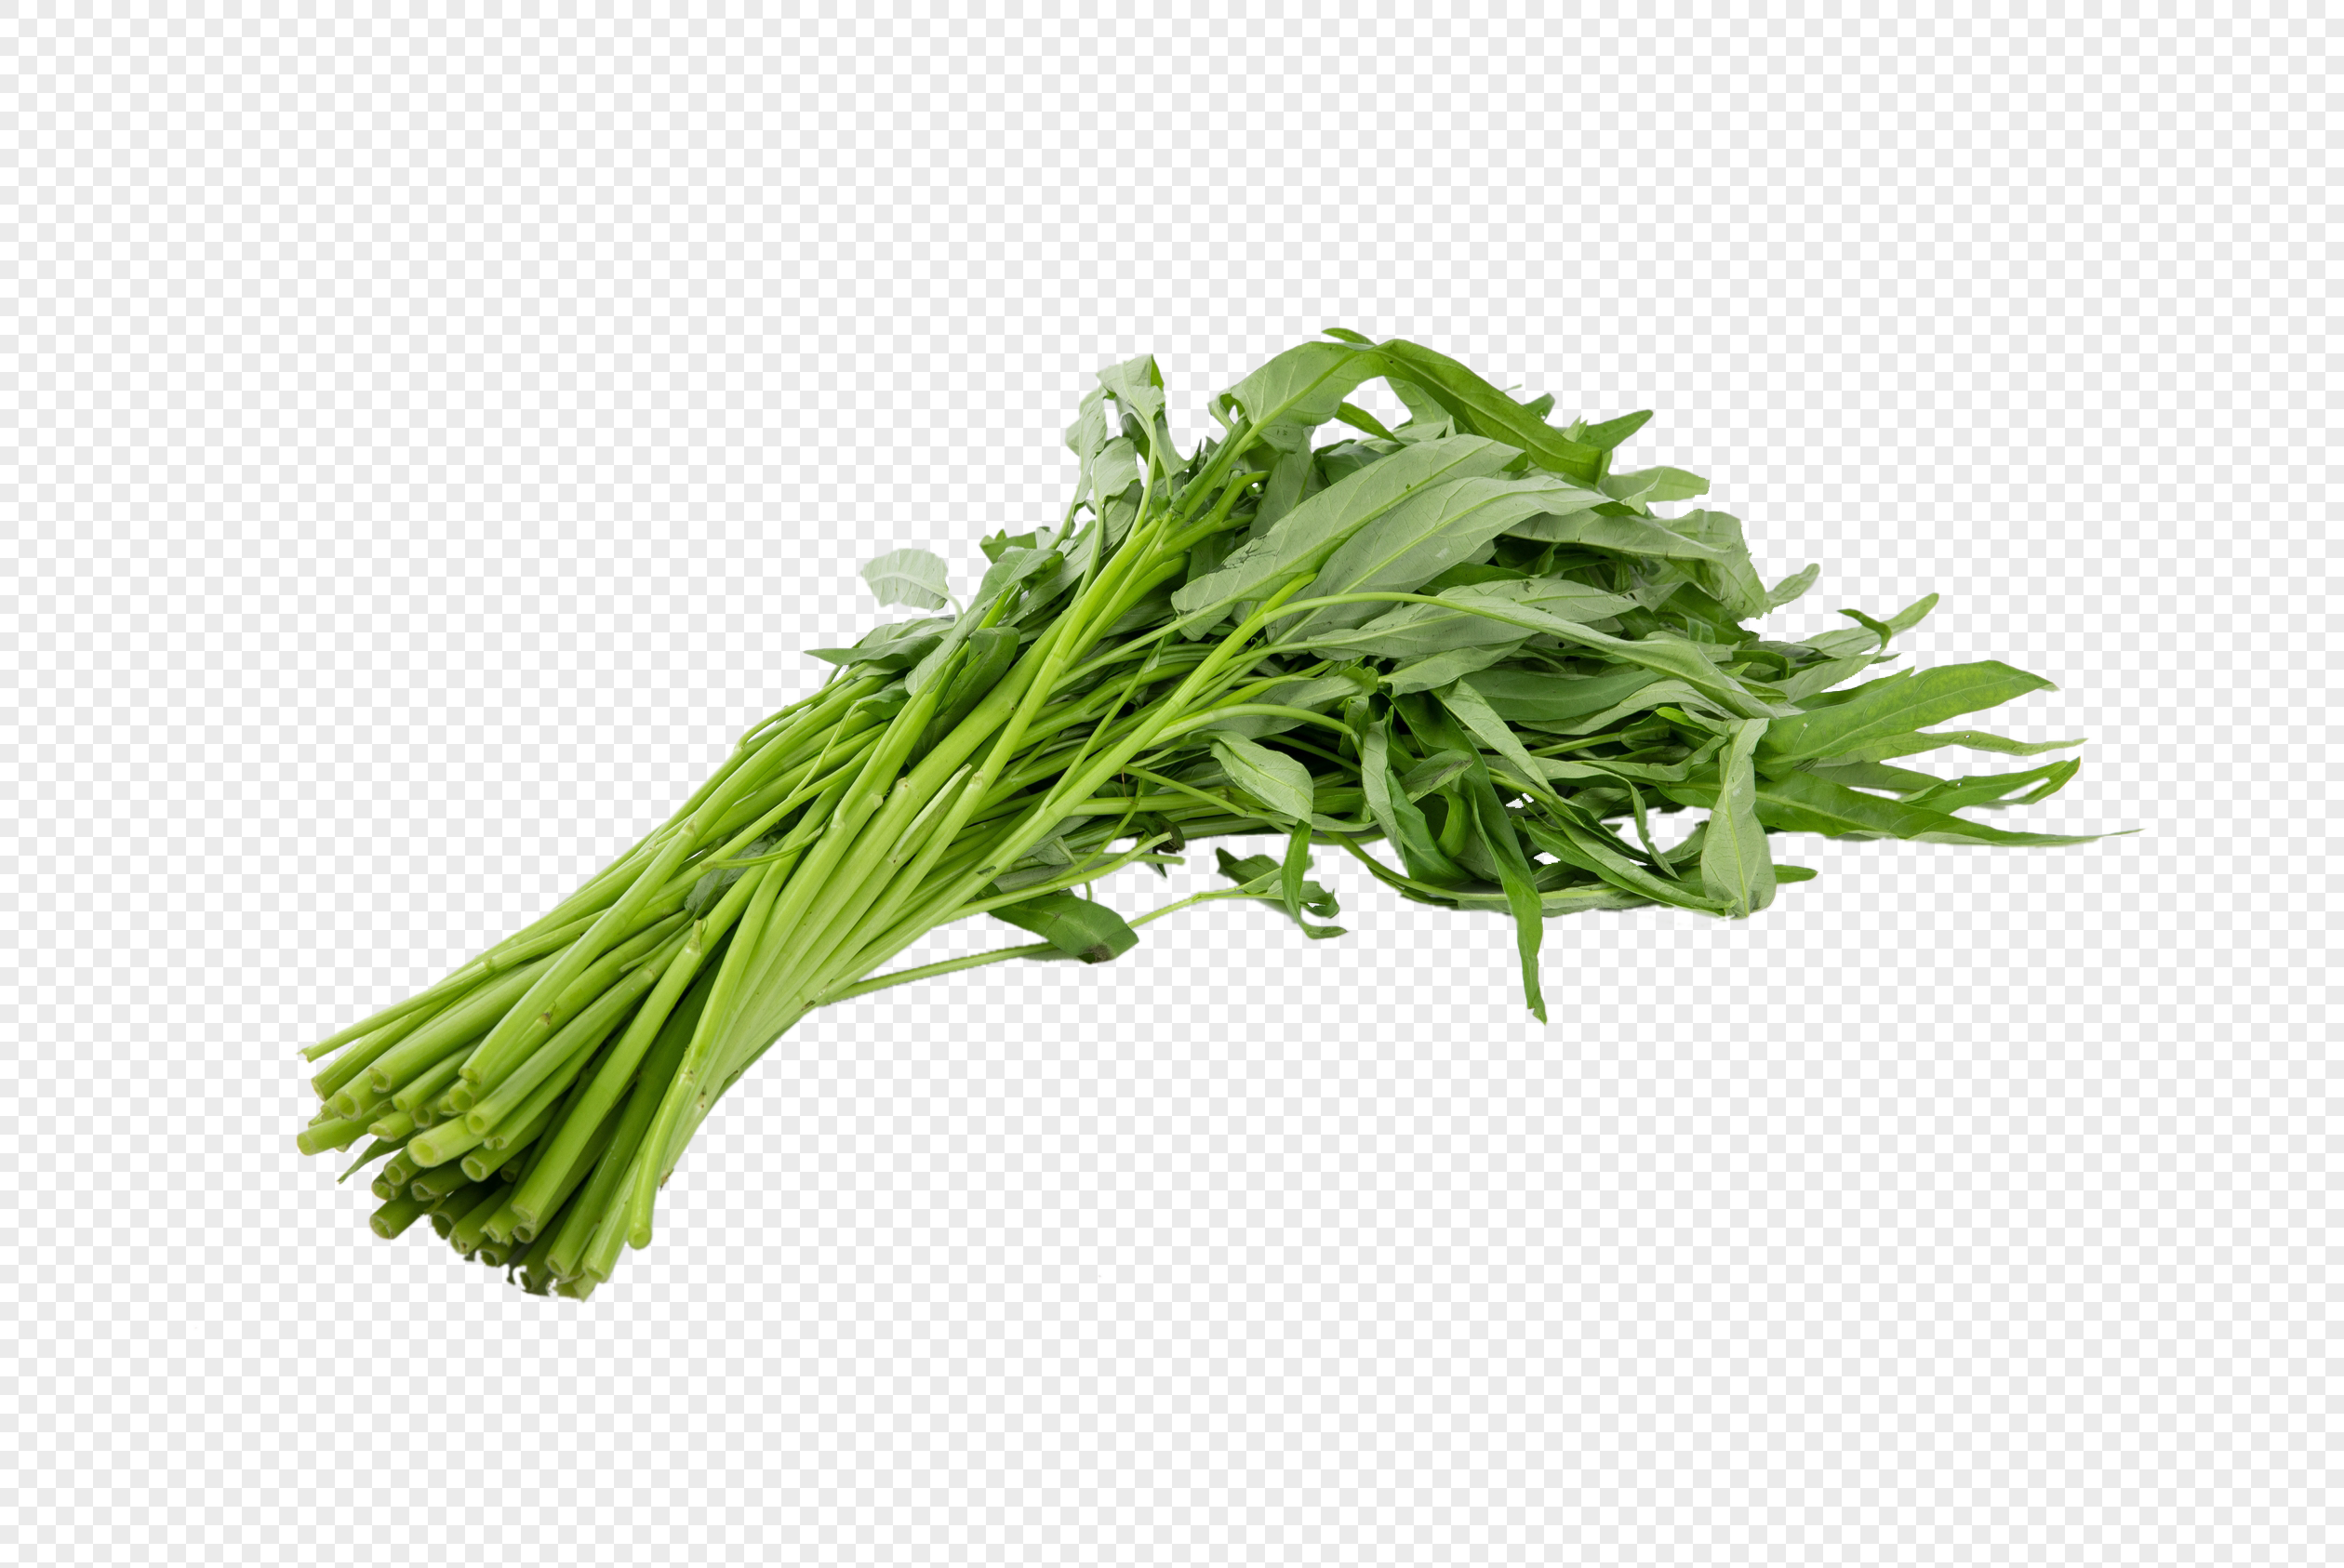Kangkung: (273, 229, 2258, 1437)
